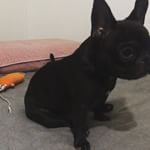puppy: (25, 3, 150, 149)
